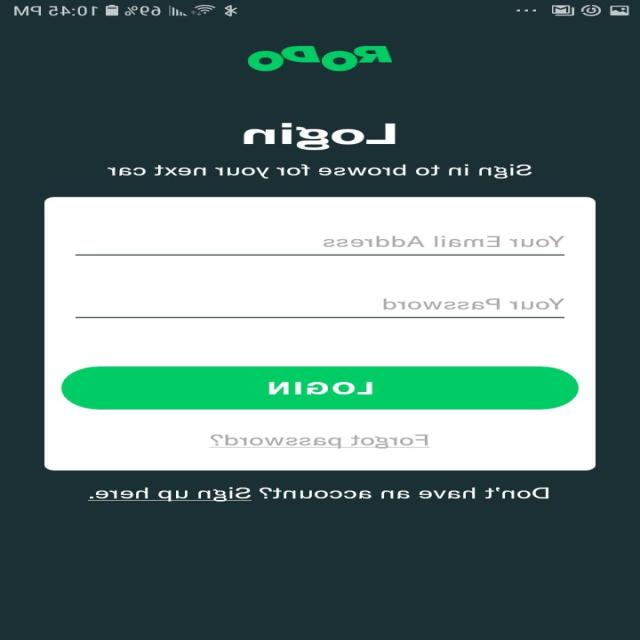EditText: (75, 234, 566, 256), (75, 298, 566, 318)
Image: (248, 46, 393, 72)
Text: (88, 486, 550, 502), (108, 164, 532, 178), (244, 123, 396, 150), (209, 434, 432, 448), (323, 235, 564, 247), (383, 298, 565, 310)
TextButton: (61, 366, 580, 410)
